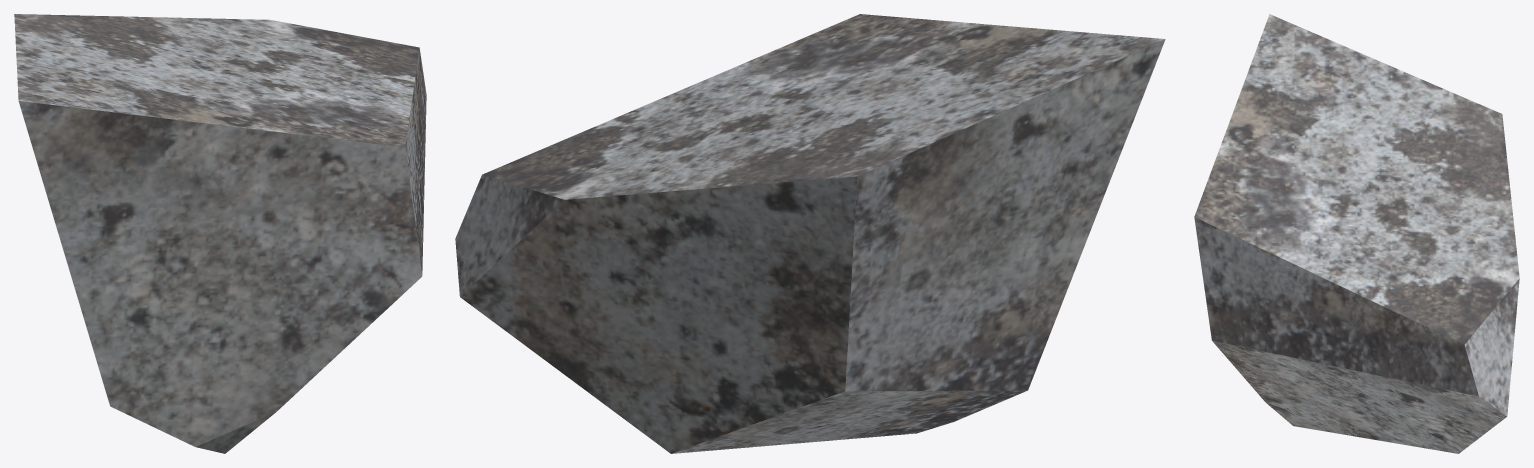
File: Asteroid_Large_001_02_002_03_020.fbx
3 renders of one model, left to right at view 1: azimuth 30°, elevation 25°; view 2: azimuth 150°, elevation 25°; view 3: azimuth 270°, elevation 25°, orthographic. The views are drawn at different scales.
Parts seen in each view (by area): view 1: Asteroid_Large_001_02_002_03_020; view 2: Asteroid_Large_001_02_002_03_020; view 3: Asteroid_Large_001_02_002_03_020.
Part boxes in pixels (x1,y1,x2,y2): Asteroid_Large_001_02_002_03_020: [14, 14, 426, 453]; Asteroid_Large_001_02_002_03_020: [455, 14, 1165, 453]; Asteroid_Large_001_02_002_03_020: [1194, 14, 1519, 453].
Bounding box in the file's own units: 10.95 × 8.08 × 7.28.
